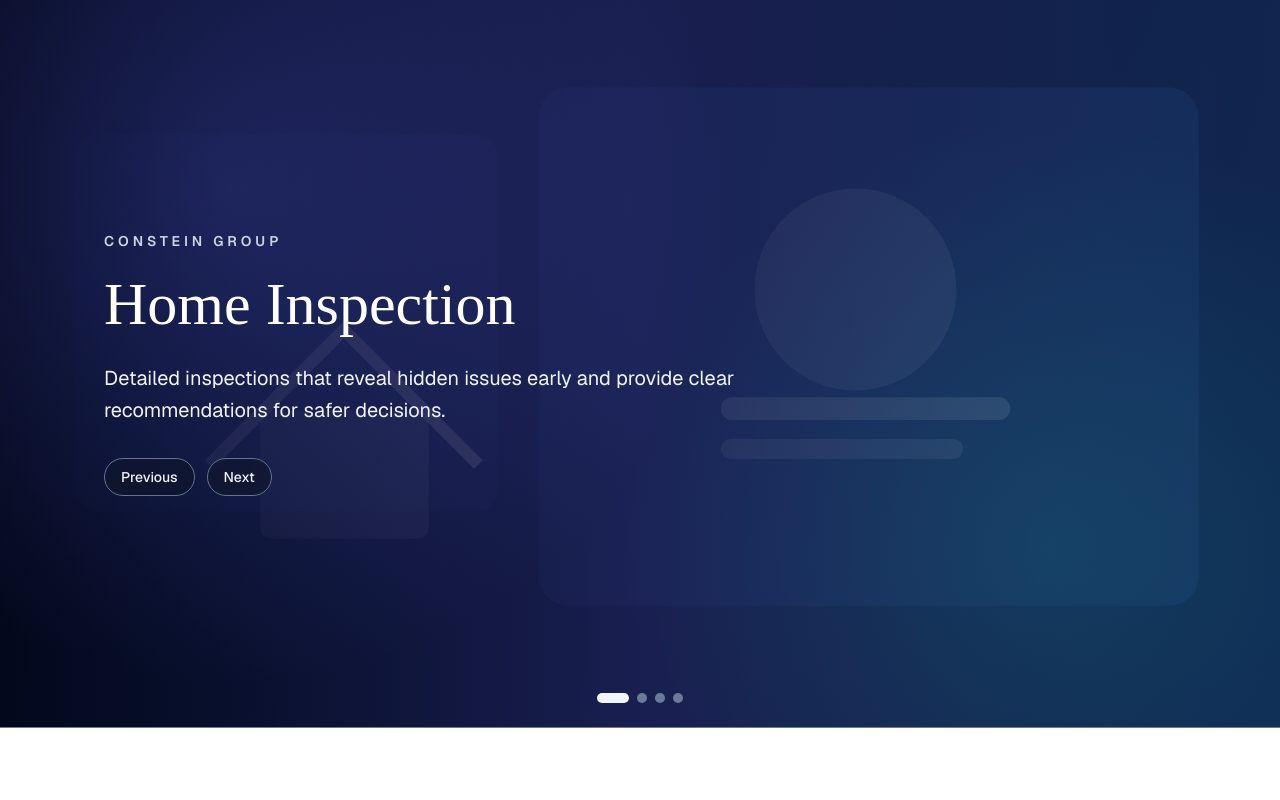
it: GallerySection › jumps to a slide when dot indicator is clicked
What coordinates should you click on to do the following:
click the button named "Go to Construction Services"
I would click on:
 (660, 698)
Its box is left=655, top=693, right=665, bottom=703.
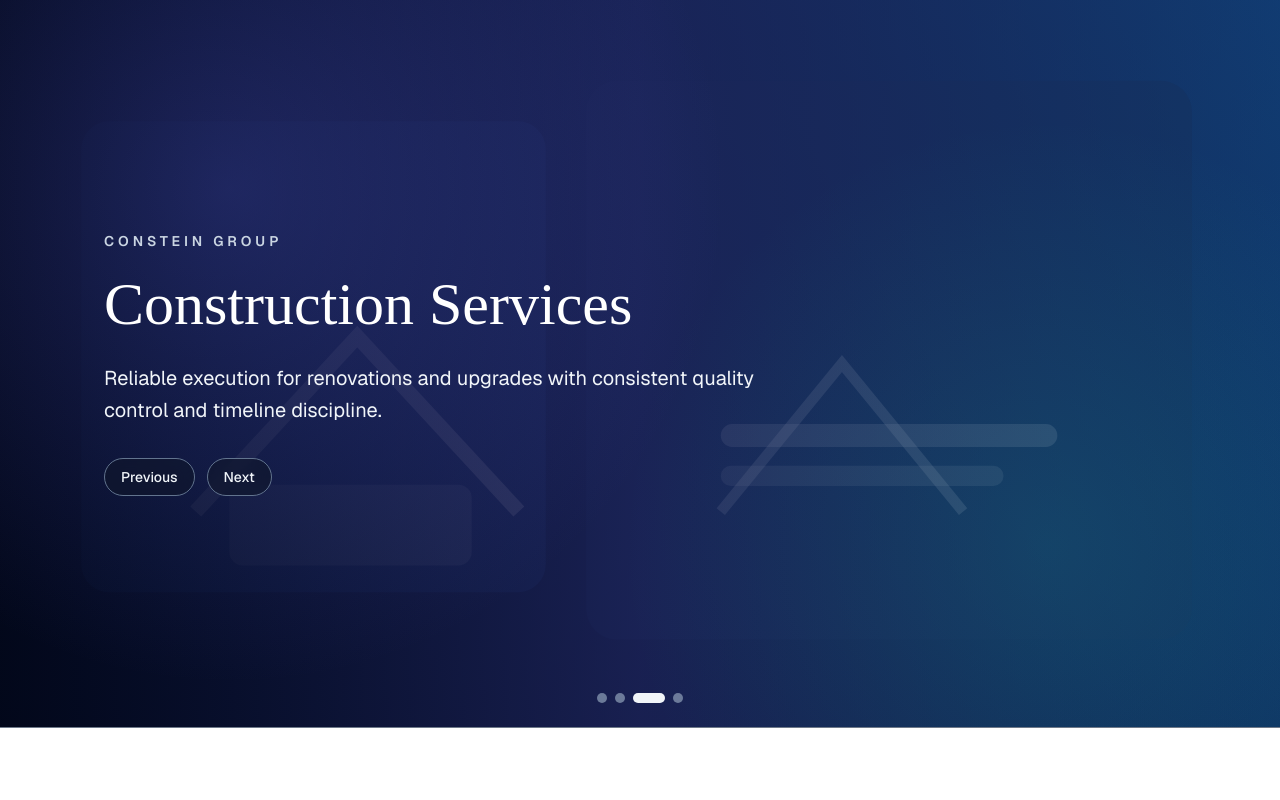
Expected: the heading "Construction Services" is shown, left=104, top=271, right=632, bottom=337
